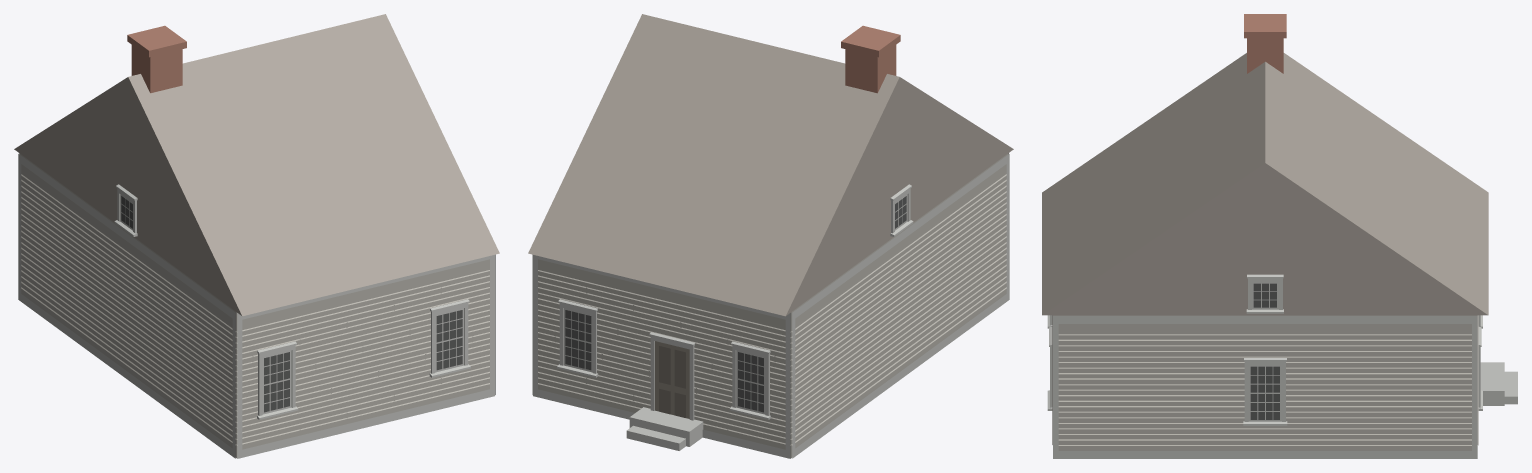
File: recon_1835_blk_school_section_tier_95_d6_07__inferred_1835.glb
3 views of the same model, side by side, from view 1: azimuth 30°, elevation 25°; view 2: azimuth 150°, elevation 25°; view 3: azimuth 270°, elevation 25° (orthographic). The views are drawn at different scales.
Parts seen in each view (by area): view 1: recon_1835_blk_school_section_tier_95_d6_07__inferred_1835; view 2: recon_1835_blk_school_section_tier_95_d6_07__inferred_1835; view 3: recon_1835_blk_school_section_tier_95_d6_07__inferred_1835.
Part boxes in pixels (<box>): recon_1835_blk_school_section_tier_95_d6_07__inferred_1835: <box>14,14,499,458</box>; recon_1835_blk_school_section_tier_95_d6_07__inferred_1835: <box>528,14,1013,458</box>; recon_1835_blk_school_section_tier_95_d6_07__inferred_1835: <box>1042,14,1517,458</box>.
Size of the model in its own units: 6.9 by 8.25 by 10.91.
